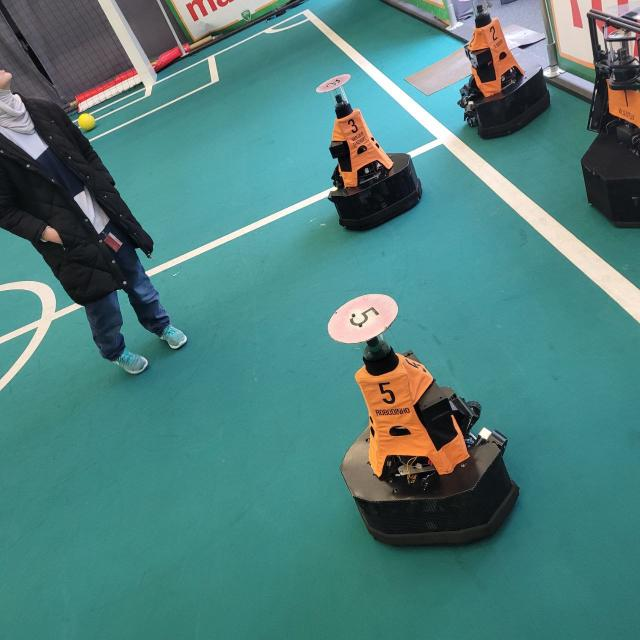Robots: (319, 298, 530, 552), (306, 69, 422, 237), (586, 3, 640, 232), (463, 0, 548, 140)
